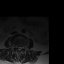CCS_normal: (18, 44, 20, 53)
LFS_normal: (22, 44, 24, 50)
LLS_stenosis: (20, 44, 22, 51)
RFS_normal: (14, 43, 16, 49)
RLS_normal: (16, 44, 18, 50)
